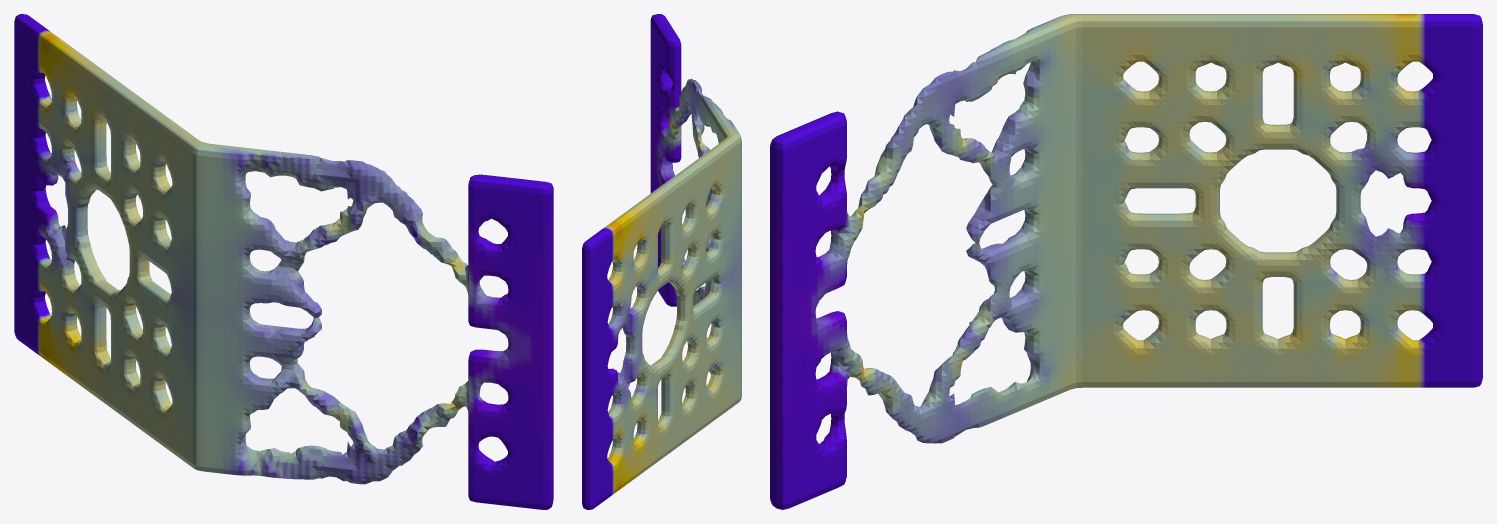
File: gobilda-bracket-after.glb
The picture shows the model from 3 angles, left to right: view 1: azimuth 30°, elevation 25°; view 2: azimuth 150°, elevation 25°; view 3: azimuth 270°, elevation 25°; orthographic projection. The views are drawn at different scales.
Parts seen in each view (by area): view 1: geometry_0; view 2: geometry_0; view 3: geometry_0.
Part boxes in pixels (bbox=[...]): geometry_0: bbox=[14, 14, 553, 509]; geometry_0: bbox=[582, 14, 741, 509]; geometry_0: bbox=[770, 14, 1482, 509].
Size of the model in its own units: 0.0362 by 0.048 by 0.0835.
